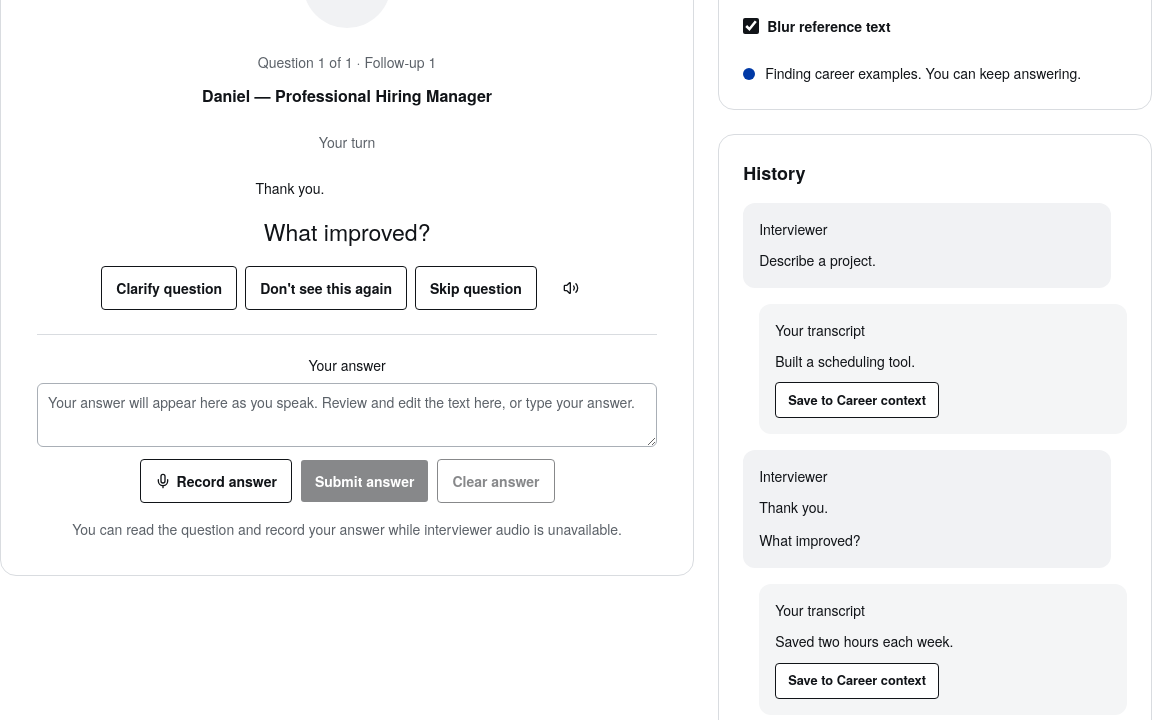
Test: InterviewPage › offers editable career context copies beside accepted core and follow-up answers in history
The width and height of the screenshot is (1152, 720).
(page scrolled)
Click the button "Save to Career context" below "Built a scheduling tool.". click: (857,400)
box: top-left (775, 382), bottom-right (939, 418)
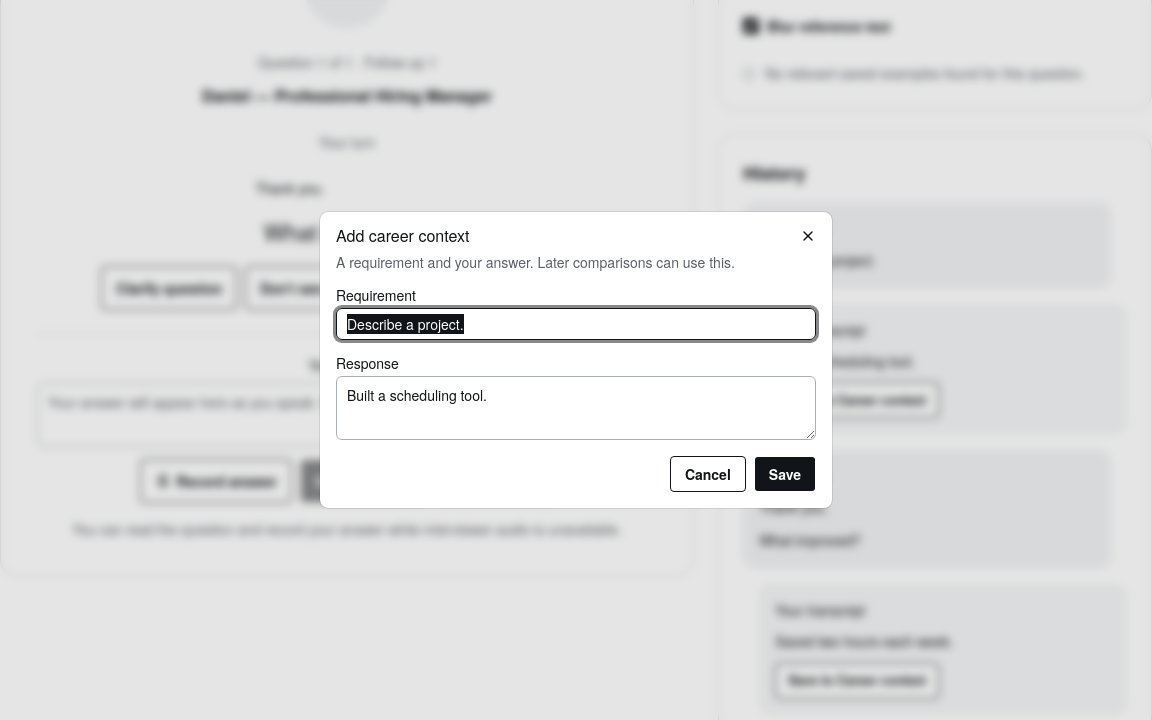
Result: the field labelled "Requirement" holds "Describe a project." at top-left (336, 308), bottom-right (816, 340)
Result: the text box labelled "Response" holds "Built a scheduling tool." at top-left (336, 376), bottom-right (816, 440)
Click the button "Cancel". click: (708,474)
box: top-left (670, 456), bottom-right (746, 492)
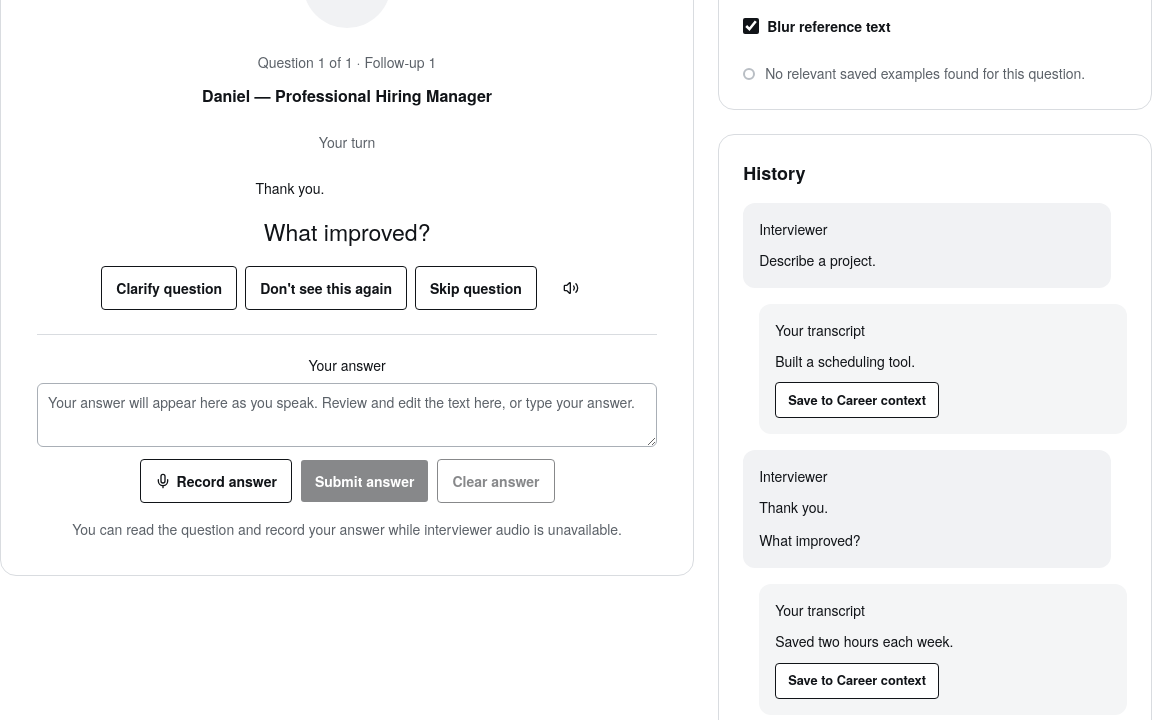
Click the button "Save to Career context" below "Saved two hours each week.". click: (857,680)
box: top-left (775, 662), bottom-right (939, 698)
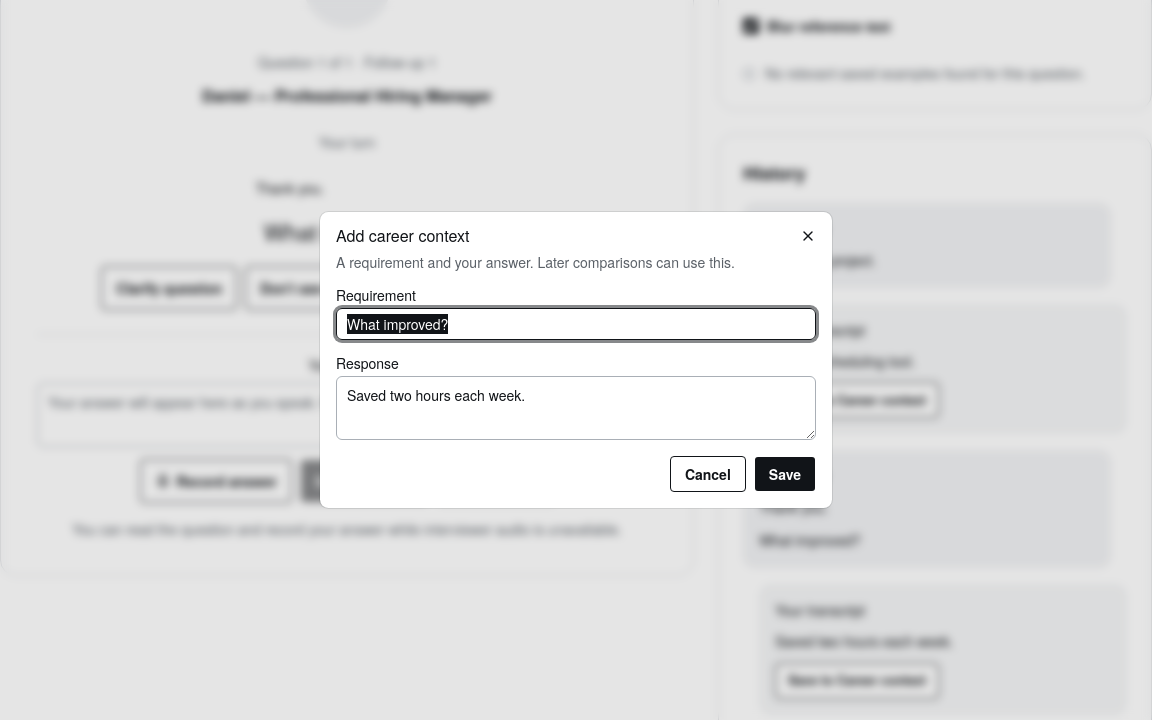
Result: the field labelled "Requirement" holds "What improved?" at top-left (336, 308), bottom-right (816, 340)
Result: the text box labelled "Response" holds "Saved two hours each week." at top-left (336, 376), bottom-right (816, 440)
